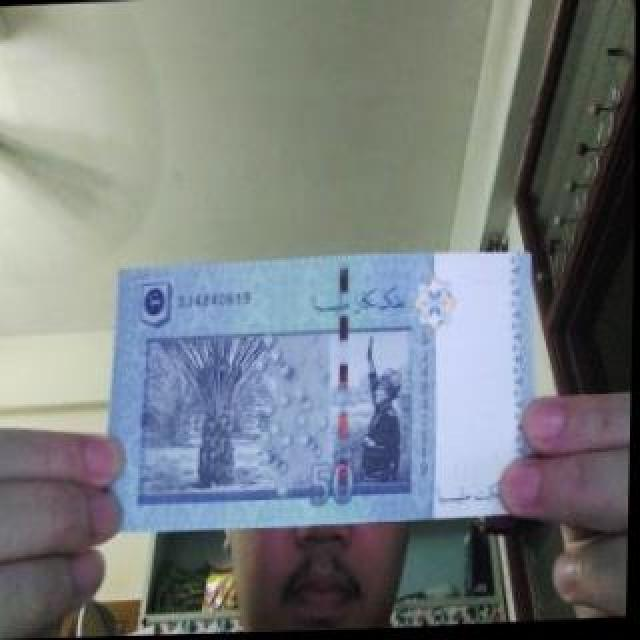50 Ringgit: (94, 234, 559, 541)
